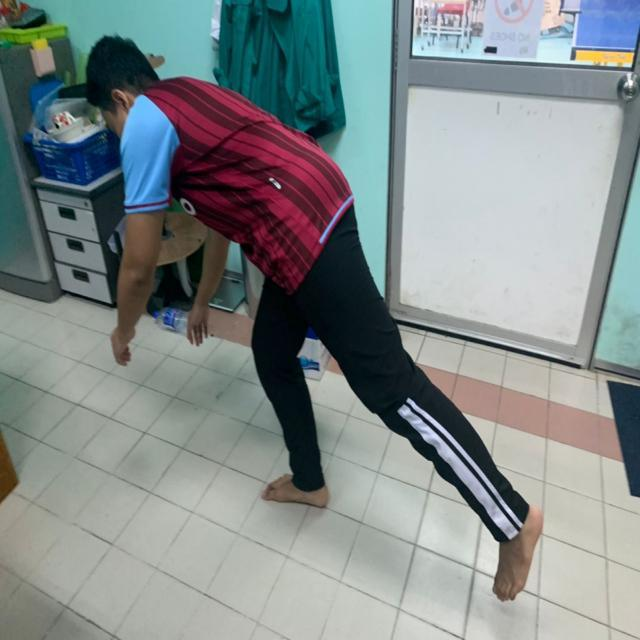fall: (82, 22, 542, 601)
